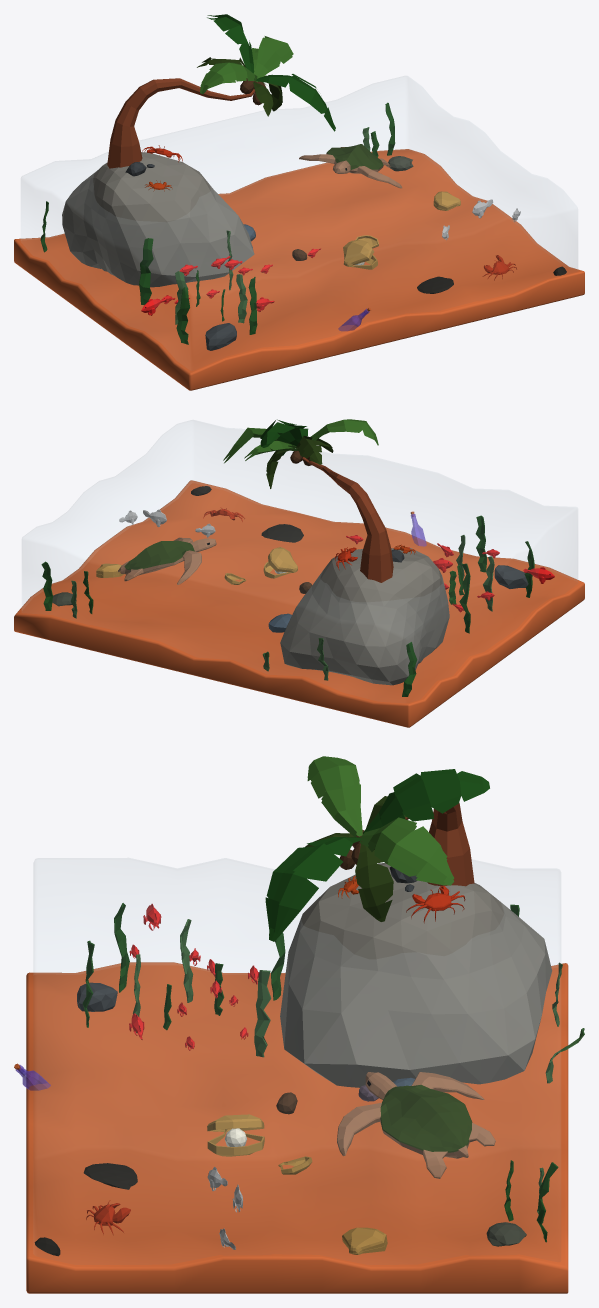
The model's file is ocean.fbx.
3 views of the same model, one above another, from view 1: azimuth 30°, elevation 25°; view 2: azimuth 150°, elevation 25°; view 3: azimuth 270°, elevation 25° (orthographic). The views are drawn at different scales.
Parts seen in each view (by area): view 1: OceanFloor, Ocean, Island, palmLeaves, Kelp, Cylinder, Rocks, Turtle, Clam, Fish1, Crab; view 2: OceanFloor, Ocean, Island, palmLeaves, Kelp, Cylinder, Turtle, Rocks, Clam, Fish1, Crab, Fish2; view 3: OceanFloor, Island, Ocean, palmLeaves, Turtle, Kelp, Rocks, Clam, Cylinder, Crab, Fish1.
Boxes of the visible parts, x1,y1,x2,y2 form: OceanFloor: (14,149,584,390); Ocean: (21,76,577,270); Island: (62,152,254,287); palmLeaves: (197,14,335,260); Kelp: (40,102,395,344); Cylinder: (107,78,255,168); Rocks: (125,156,566,350); Turtle: (299,144,402,188); Clam: (343,191,460,269); Fish1: (141,248,320,315); Crab: (142,145,516,280); OceanFloor: (14,480,584,727); Ocean: (22,420,577,610); Island: (280,548,449,685); palmLeaves: (223,419,378,593); Kelp: (41,515,534,696); Cylinder: (302,457,393,582); Turtle: (118,537,216,584); Rocks: (52,486,528,632); Clam: (96,547,297,584); Fish1: (346,535,554,612); Crab: (203,507,416,570); Fish2: (119,509,215,537); OceanFloor: (26,962,568,1293); Island: (280,863,552,1087); Ocean: (34,858,560,974); palmLeaves: (265,756,489,1114); Turtle: (337,1072,495,1178); Kelp: (82,903,584,1242); Rocks: (34,866,526,1256); Clam: (207,1114,387,1254); Cylinder: (405,802,474,886); Crab: (86,876,465,1235); Fish1: (129,903,259,1050).
Bounding box in the file's own units: 1981 × 1076 × 1565.
